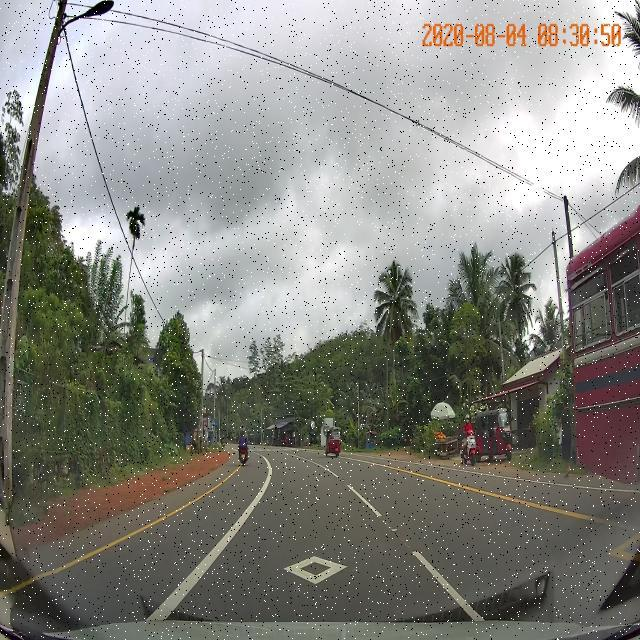diamond: (154, 533, 484, 614)
